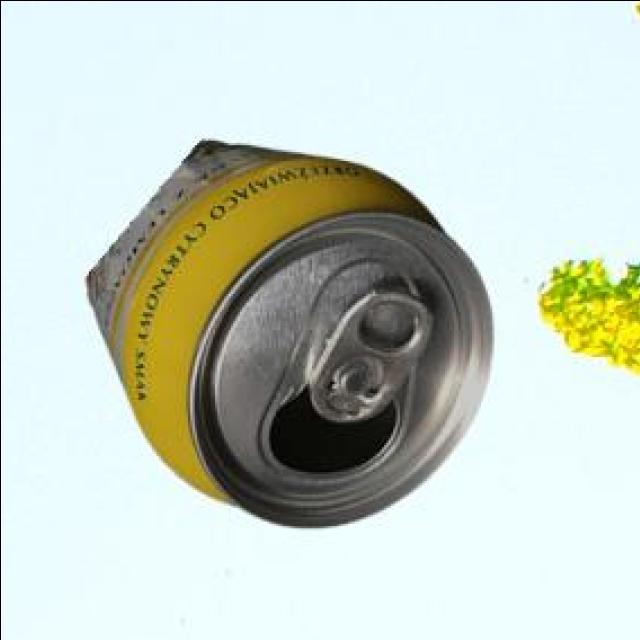logam: (89, 143, 495, 531)
